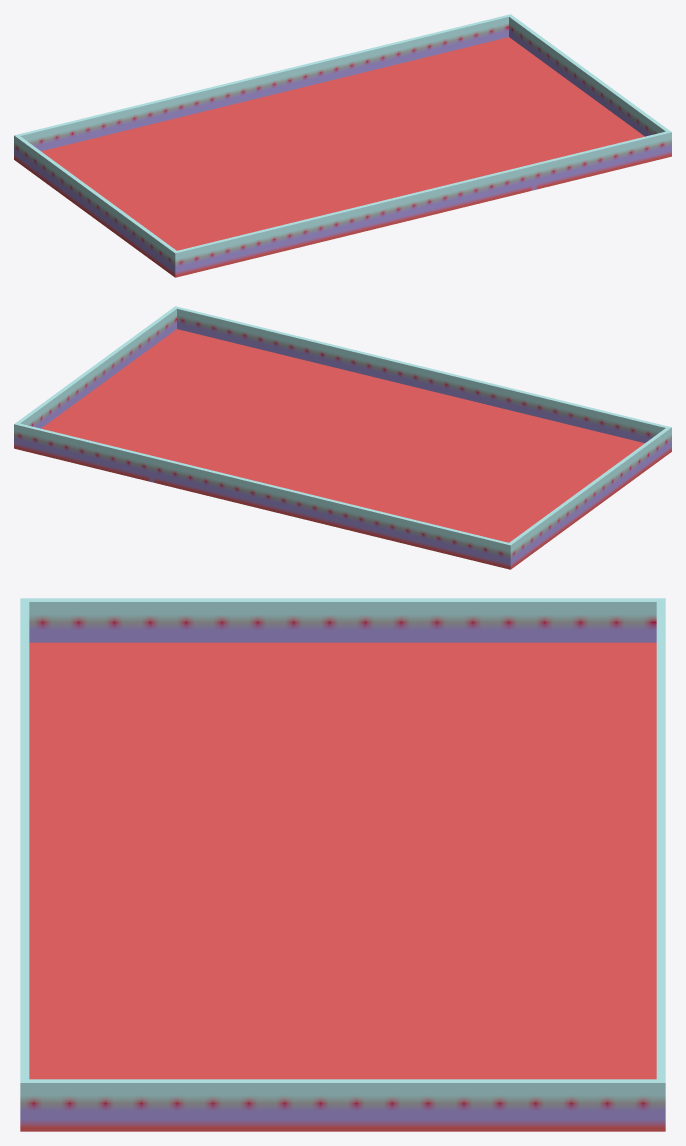
Rendered from background_selected3.dae.
The picture shows the model from 3 angles, top to bottom: view 1: azimuth 30°, elevation 25°; view 2: azimuth 150°, elevation 25°; view 3: azimuth 270°, elevation 25°; orthographic projection. The views are drawn at different scales.
Parts seen in each view (by area): view 1: BACKGROUND; view 2: BACKGROUND; view 3: BACKGROUND.
Boxes of the visible parts, left/top/right/bottom form: BACKGROUND: left=14, top=14, right=671, bottom=277; BACKGROUND: left=14, top=306, right=671, bottom=569; BACKGROUND: left=20, top=598, right=665, bottom=1131.
Size of the model in its own units: 128 by 6 by 72.
Materials: 1 (1 with a texture image).
